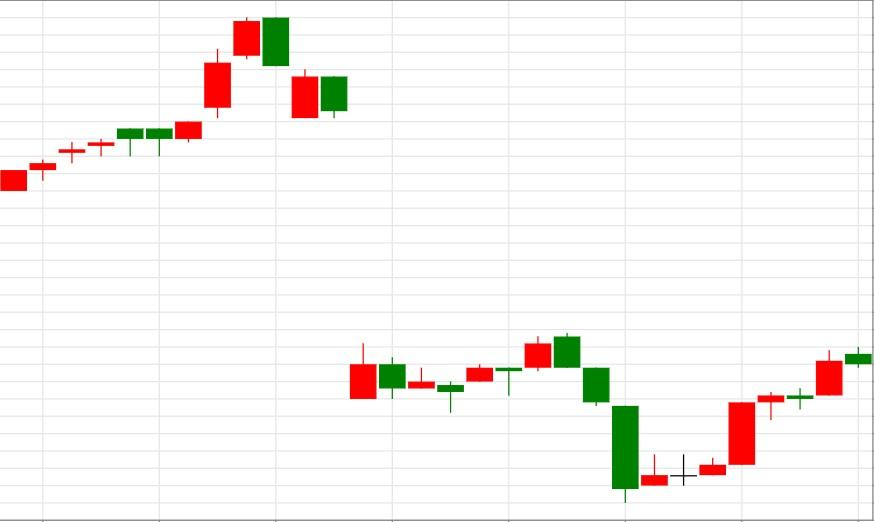bearish_engulfing_fall: (0, 17, 290, 192)
